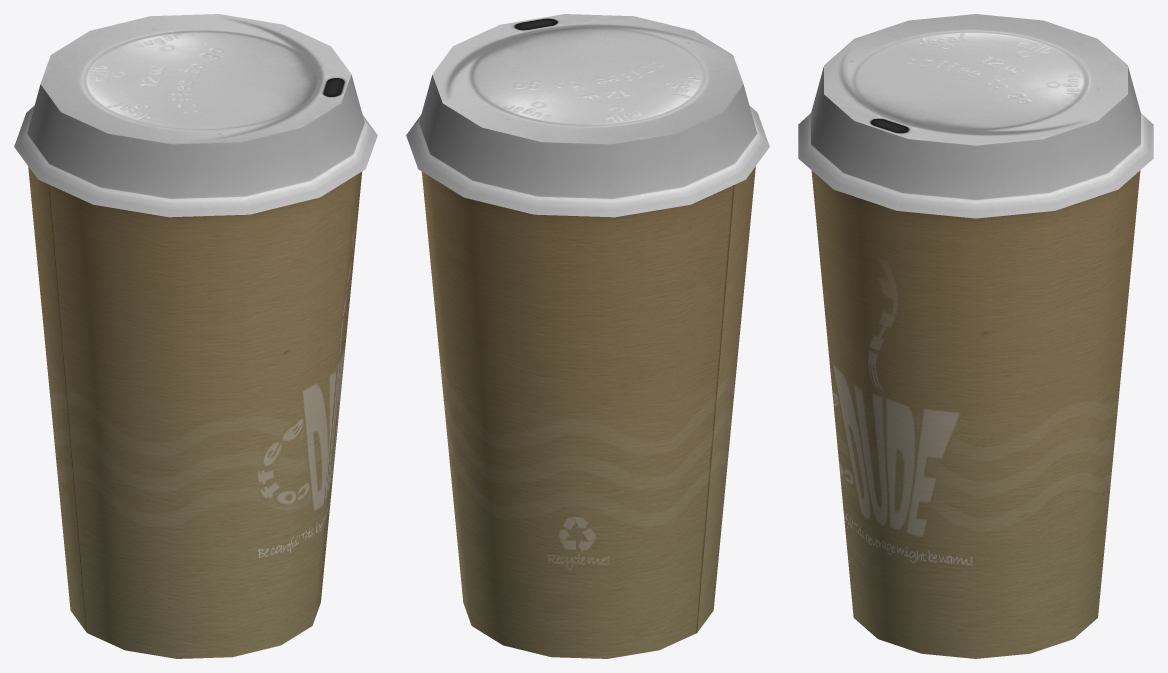
Rendered from coffecup.DAE.
The picture shows the model from 3 angles, left to right: view 1: azimuth 30°, elevation 25°; view 2: azimuth 150°, elevation 25°; view 3: azimuth 270°, elevation 25°; orthographic projection.
Visible parts, largest first — view 1: coffeecup_01_hipoly; view 2: coffeecup_01_hipoly; view 3: coffeecup_01_hipoly.
Boxes of the visible parts, <box> form: coffeecup_01_hipoly: <box>14,14,377,658</box>; coffeecup_01_hipoly: <box>406,14,769,658</box>; coffeecup_01_hipoly: <box>798,14,1153,658</box>.
Bounding box in the file's own units: 8.12 × 7.92 × 12.95.
1 material, 1 textured.
